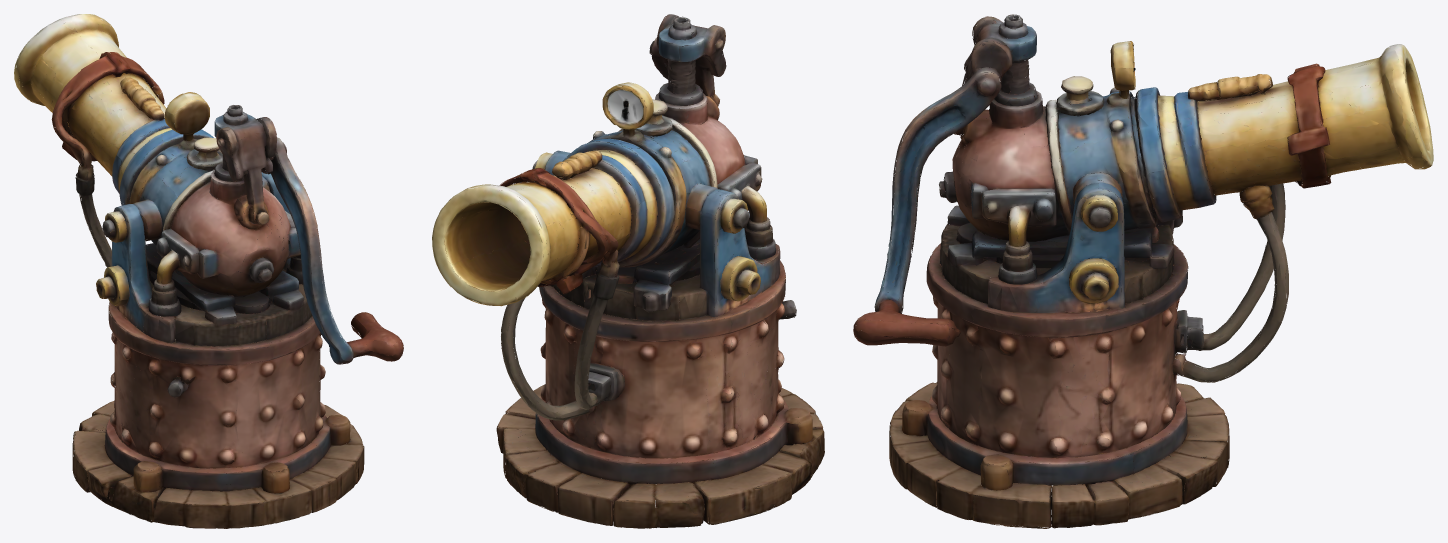
Rendered from water_cannon.glb.
3 renders of one model, left to right at view 1: azimuth 30°, elevation 25°; view 2: azimuth 150°, elevation 25°; view 3: azimuth 270°, elevation 25°, orthographic. The views are drawn at different scales.
Visible parts, largest first — view 1: base, head, gun; view 2: base, head, gun; view 3: base, head, gun.
Part boxes in pixels (left/top/right/bottom): base: left=72, top=226, right=403, bottom=528; head: left=80, top=92, right=339, bottom=342; gun: left=14, top=14, right=214, bottom=229; base: left=496, top=253, right=824, bottom=528; head: left=502, top=14, right=780, bottom=346; gun: left=432, top=138, right=678, bottom=314; base: left=853, top=229, right=1288, bottom=528; head: left=883, top=14, right=1288, bottom=311; gun: left=1135, top=44, right=1433, bottom=236.
Size of the model in its own units: 1.25 by 1.8 by 2.14.
1 material, 1 textured.
